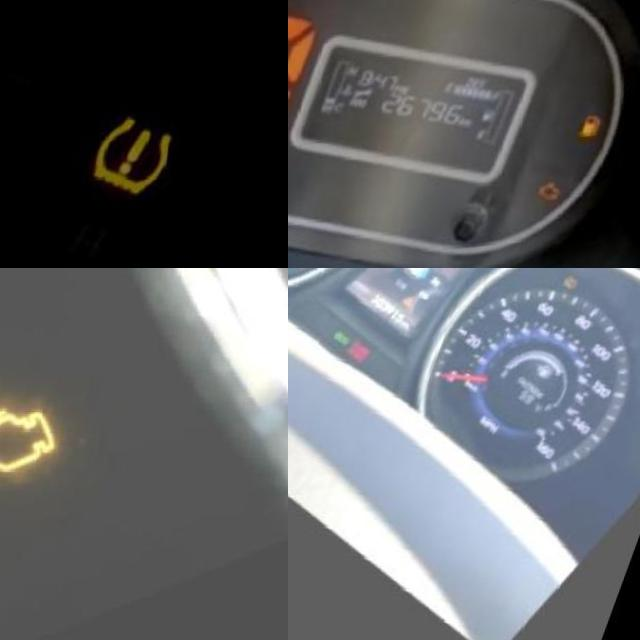Low fuel level: (587, 113, 621, 147)
